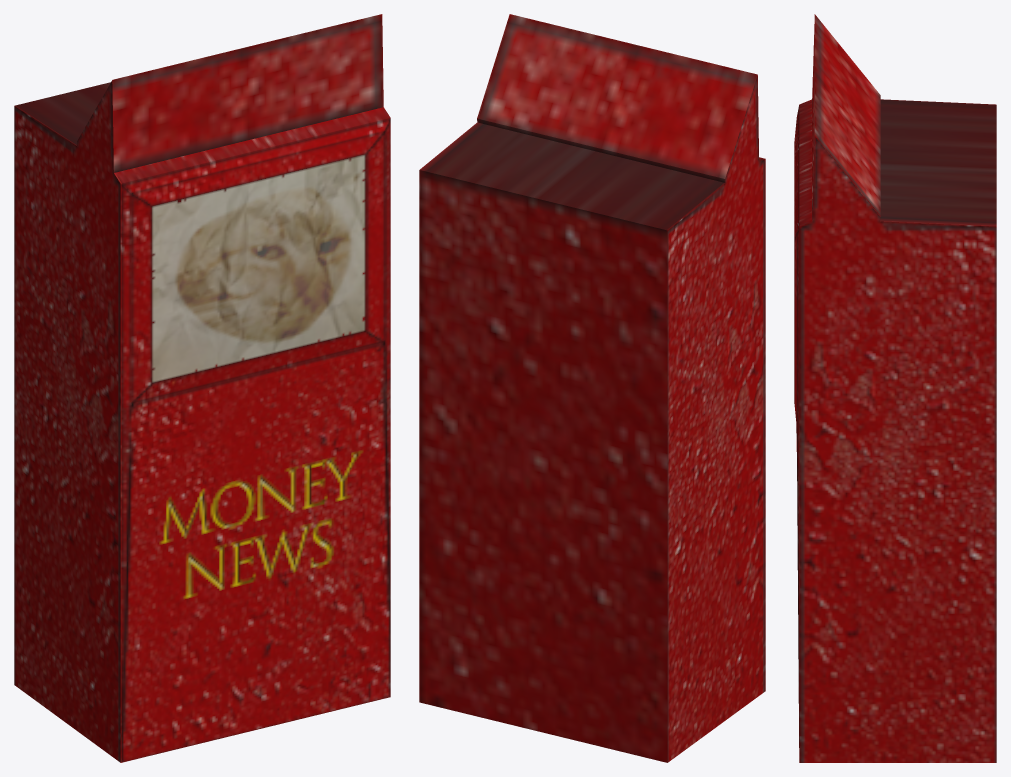
The model's file is Newspaper_Stand.fbx.
3 views of the same model, side by side, from view 1: azimuth 30°, elevation 25°; view 2: azimuth 150°, elevation 25°; view 3: azimuth 270°, elevation 25° (orthographic). The views are drawn at different scales.
Parts seen in each view (by area): view 1: newspapper_stand_var1; view 2: newspapper_stand_var1; view 3: newspapper_stand_var1.
Part boxes in pixels (bbox=[...]): newspapper_stand_var1: bbox=[14, 14, 390, 762]; newspapper_stand_var1: bbox=[419, 14, 765, 762]; newspapper_stand_var1: bbox=[794, 14, 996, 762].
Bounding box in the file's own units: 1.89 × 4.54 × 1.33.
1 material, 1 textured.
